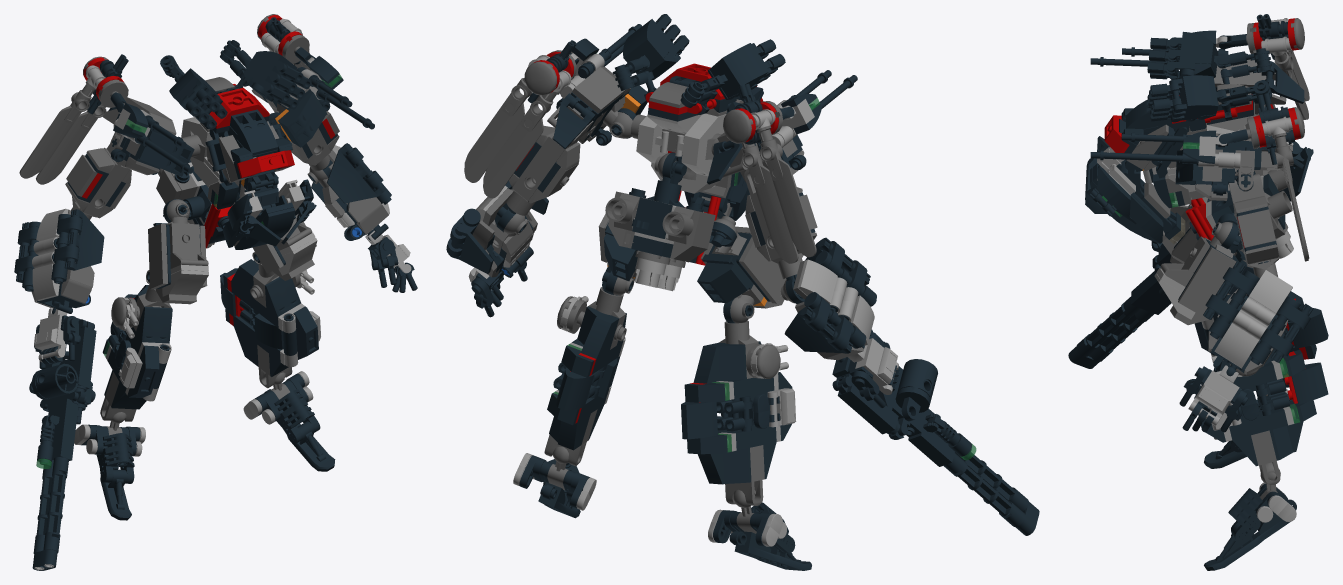
Rendered from rt-7139-rotor-titan.dae.
3 renders of one model, left to right at view 1: azimuth 30°, elevation 25°; view 2: azimuth 150°, elevation 25°; view 3: azimuth 270°, elevation 25°, orthographic. The views are drawn at different scales.
Size of the model in its own units: 658 by 323 by 635.
